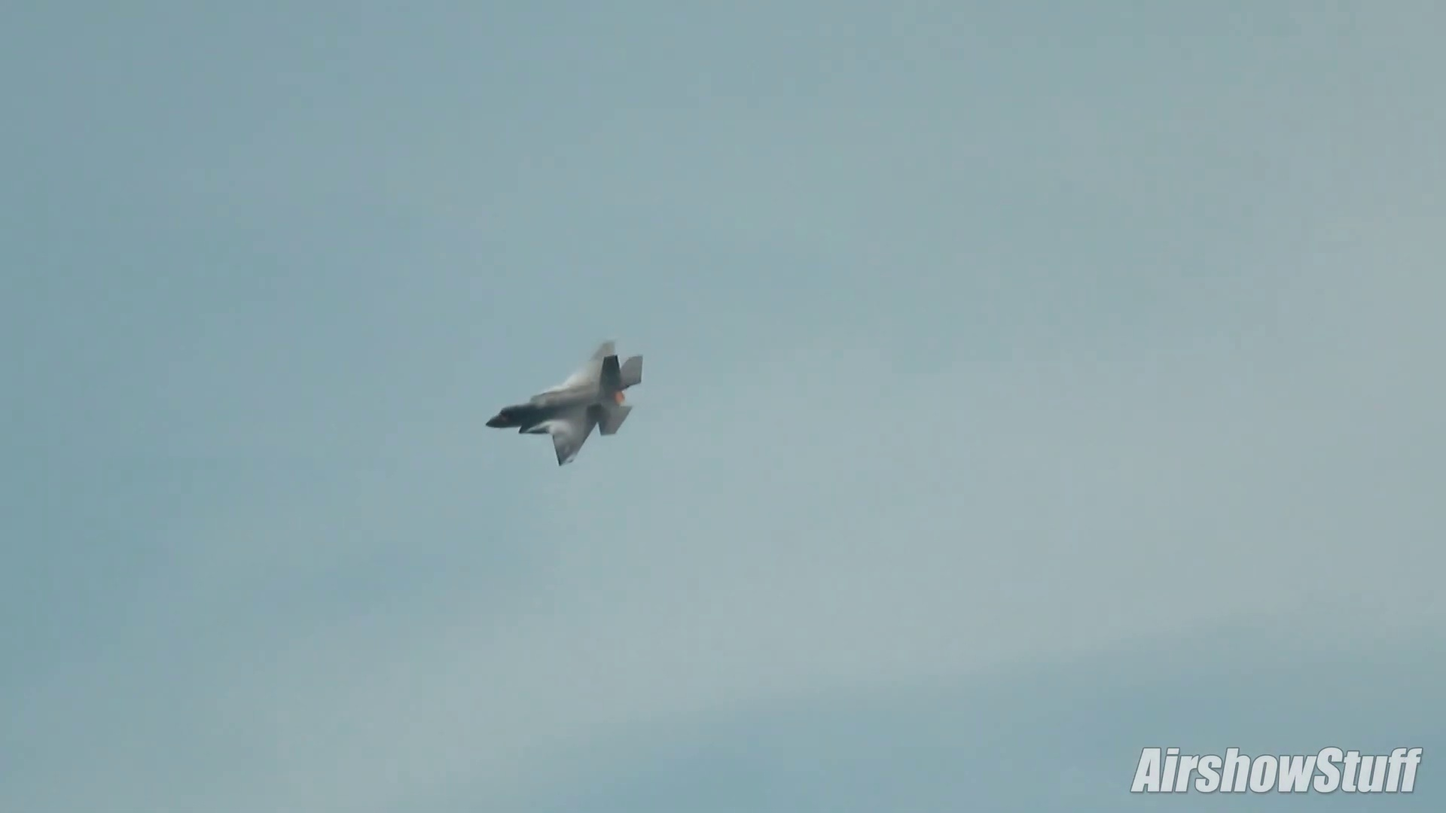F35: (484, 331, 646, 468)
